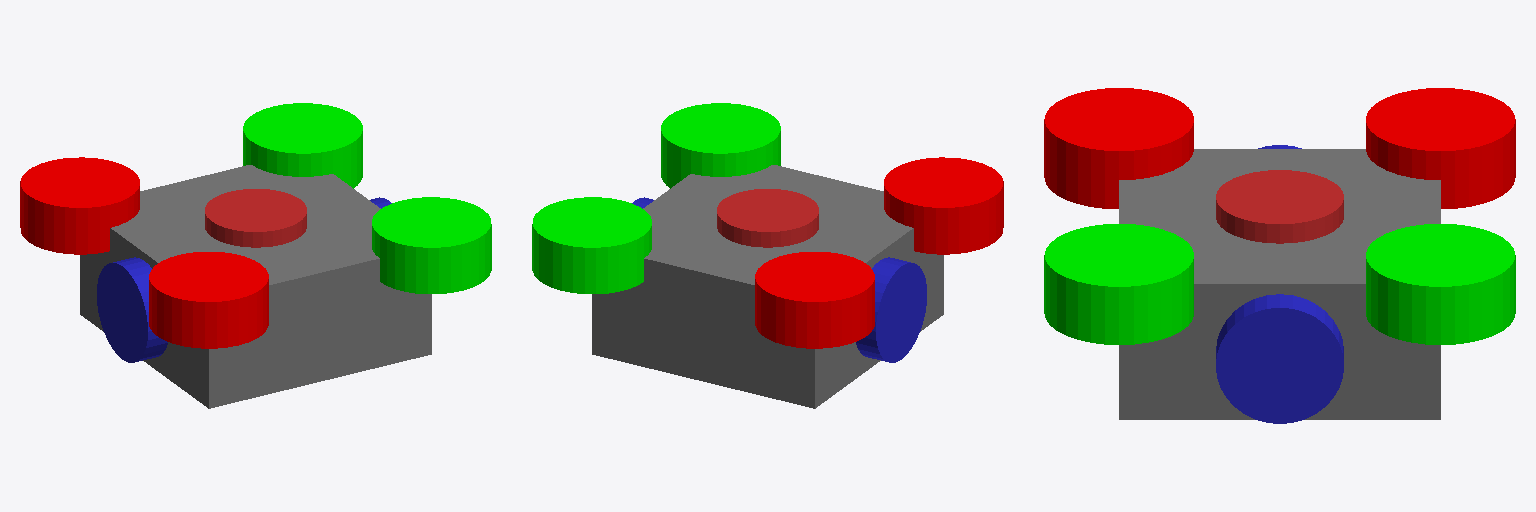
robot.urdf — HobbyDrone:
<?xml version="1.0"?>
<robot name="HobbyDrone">

  <!-- ======================= Materials ======================= -->
  <material name="grey">
    <color rgba="0.5 0.5 0.5 1.0"/>
  </material>
  <material name="blue_cam">
    <color rgba="0.2 0.2 0.8 0.5"/>
  </material>
  <material name="red_cam">
    <color rgba="0.8 0.2 0.2 0.5"/>
  </material>
  <material name="green_cam">
    <color rgba="0.2 0.8 0.2 0.5"/>
  </material>
  <material name="orange_light">
    <color rgba="1.0 0.5 0.0 1.0"/>
  </material>
  <material name="cyan_light">
    <color rgba="0.0 1.0 1.0 1.0"/>
  </material>
  <material name="green_rotor">
    <color rgba="0 1 0 1.0"/>
  </material>
  <material name="red_rotor">
    <color rgba="1 0 0 1.0"/>
  </material>

  <!-- ======================= Base Link ======================= -->
  <link name="CHASSIS">
    <visual>
      <geometry>
        <box size="0.15 0.15 0.07"/>
      </geometry>
      <material name="grey"/>
    </visual>
    <inertial>
      <origin xyz="0 0 0" rpy="0 0 0"/>
      <mass value="1.0"/>
      <inertia ixx="0.00228333" ixy="0" ixz="0" iyy="0.00228333" iyz="0" izz="0.00375"/>
    </inertial>
  </link>

  <!-- ======================= Cameras ======================= -->

  <!-- Front Camera -->
  <link name="FrontCamera">
    <visual>
      <origin xyz="0 0 0" rpy="0 0 0"/>
      <geometry>
        <cylinder radius="0.03" length="0.02"/>
      </geometry>
      <material name="blue_cam"/>
    </visual>
  </link>
  <joint name="FrontCamera_joint" type="fixed">
    <parent link="CHASSIS"/>
    <child link="FrontCamera"/>
    <origin xyz="0.08 0 0" rpy="-1.5708 0 -1.5708"/>
  </joint>

  <!-- Back Camera -->
  <link name="BackCamera">
    <visual>
      <origin xyz="0 0 0" rpy="0 0 0"/>
      <geometry>
        <cylinder radius="0.03" length="0.02"/>
      </geometry>
      <material name="blue_cam"/>
    </visual>
  </link>
  <joint name="BackCamera_joint" type="fixed">
    <parent link="CHASSIS"/>
    <child link="BackCamera"/>
    <origin xyz="-0.08 0 0" rpy="-1.5708 0 1.5708"/>
  </joint>

  <!-- Top Camera -->
  <link name="TopCamera">
    <visual>
      <origin xyz="0 0 0" rpy="0 0 0"/>
      <geometry>
        <cylinder radius="0.03" length="0.02"/>
      </geometry>
      <material name="red_cam"/>
    </visual>
  </link>
  <joint name="TopCamera_joint" type="fixed">
    <parent link="CHASSIS"/>
    <child link="TopCamera"/>
    <origin xyz="0 0 0.035" rpy="0 0 0"/>
  </joint>

  <!-- Bottom Camera -->
  <link name="BottomCamera">
    <visual>
      <origin xyz="0 0 0" rpy="0 0 0"/>
      <geometry>
        <cylinder radius="0.03" length="0.02"/>
      </geometry>
      <material name="green_cam"/>
    </visual>
  </link>
  <joint name="BottomCamera_joint" type="fixed">
    <parent link="CHASSIS"/>
    <child link="BottomCamera"/>
    <origin xyz="0 0 -0.035" rpy="3.1416 0 0"/>
  </joint>

  <!-- ======================= Lights ======================= -->

  <!-- Front Light -->
  <link name="FrontLight">
    <visual>
      <origin xyz="0 0 0" rpy="0 -1.5708 0"/>
      <geometry>
        <cylinder radius="0.022" length="0.035"/>
      </geometry>
      <material name="orange_light"/>
    </visual>
  </link>
  <joint name="FrontLight_joint" type="fixed">
    <parent link="CHASSIS"/>
    <child link="FrontLight"/>
    <origin xyz="0.06 0 0" rpy="0 0 0"/>
  </joint>

  <!-- Back Light -->
  <link name="BackLight">
    <visual>
      <origin xyz="0 0 0" rpy="0 -1.5708 0"/>
      <geometry>
        <cylinder radius="0.022" length="0.035"/>
      </geometry>
      <material name="orange_light"/>
    </visual>
  </link>
  <joint name="BackLight_joint" type="fixed">
    <parent link="CHASSIS"/>
    <child link="BackLight"/>
    <origin xyz="-0.06 0 0" rpy="0 0 0"/>
  </joint>

  <!-- Top Light -->
  <link name="TopLight">
    <visual>
      <origin xyz="0 0 0" rpy="0 0 0"/>
      <geometry>
        <cylinder radius="0.02" length="0.028"/>
      </geometry>
      <material name="cyan_light"/>
    </visual>
  </link>
  <joint name="TopLight_joint" type="fixed">
    <parent link="CHASSIS"/>
    <child link="TopLight"/>
    <origin xyz="0 0 0.03" rpy="0 0 0"/>
  </joint>

  <!-- Bottom Light -->
  <link name="BottomLight">
    <visual>
      <origin xyz="0 0 0" rpy="0 0 0"/>
      <geometry>
        <cylinder radius="0.02" length="0.028"/>
      </geometry>
      <material name="cyan_light"/>
    </visual>
  </link>
  <joint name="BottomLight_joint" type="fixed">
    <parent link="CHASSIS"/>
    <child link="BottomLight"/>
    <origin xyz="0 0 -0.03" rpy="0 0 0"/>
  </joint>

  <!-- ======================= Rotors ======================= -->

  <!-- Right-Front Rotor -->
  <link name="ROTOR_RF">
    <visual>
      <origin xyz="0 0 0" rpy="0 0 0"/>
      <geometry>
        <cylinder radius="0.035" length="0.03"/>
      </geometry>
      <material name="green_rotor"/>
    </visual>
  </link>
  <joint name="ROTOR_RF_joint" type="fixed">
    <parent link="CHASSIS"/>
    <child link="ROTOR_RF"/>
    <origin xyz="0.075 -0.075 0.035" rpy="0 0 0"/>
  </joint>

  <!-- Left-Front Rotor -->
  <link name="ROTOR_LF">
    <visual>
      <origin xyz="0 0 0" rpy="0 0 0"/>
      <geometry>
        <cylinder radius="0.035" length="0.03"/>
      </geometry>
      <material name="green_rotor"/>
    </visual>
  </link>
  <joint name="ROTOR_LF_joint" type="fixed">
    <parent link="CHASSIS"/>
    <child link="ROTOR_LF"/>
    <origin xyz="0.075 0.075 0.035" rpy="0 0 0"/>
  </joint>

  <!-- Left-Rear Rotor -->
  <link name="ROTOR_LR">
    <visual>
      <origin xyz="0 0 0" rpy="0 0 0"/>
      <geometry>
        <cylinder radius="0.035" length="0.03"/>
      </geometry>
      <material name="red_rotor"/>
    </visual>
  </link>
  <joint name="ROTOR_LR_joint" type="fixed">
    <parent link="CHASSIS"/>
    <child link="ROTOR_LR"/>
    <origin xyz="-0.075 0.075 0.035" rpy="0 0 0"/>
  </joint>

  <!-- Right-Rear Rotor -->
  <link name="ROTOR_RR">
    <visual>
      <origin xyz="0 0 0" rpy="0 0 0"/>
      <geometry>
        <cylinder radius="0.035" length="0.03"/>
      </geometry>
      <material name="red_rotor"/>
    </visual>
  </link>
  <joint name="ROTOR_RR_joint" type="fixed">
    <parent link="CHASSIS"/>
    <child link="ROTOR_RR"/>
    <origin xyz="-0.075 -0.075 0.035" rpy="0 0 0"/>
  </joint>

</robot>

--- What the picture shows (computed from the rendered views, not written in the file) ---
Views: 3 orthographic renders of the robot side by side, from view 1: azimuth 30°, elevation 25°; view 2: azimuth 150°, elevation 25°; view 3: azimuth 270°, elevation 25°.
Model HobbyDrone with 13 links and 12 joints (12 fixed), rooted at CHASSIS, posed every joint at zero.
Visible links, largest first — view 1: CHASSIS, ROTOR_RR, ROTOR_RF, ROTOR_LR, ROTOR_LF, TopCamera, BackCamera; view 2: CHASSIS, ROTOR_LR, ROTOR_LF, ROTOR_RR, ROTOR_RF, TopCamera, BackCamera; view 3: CHASSIS, ROTOR_RF, ROTOR_LF, ROTOR_LR, ROTOR_RR, FrontCamera, TopCamera.
Link boxes in pixels (x1=…): CHASSIS: x1=80, y1=165, x2=431, y2=408; ROTOR_RR: x1=149, y1=252, x2=268, y2=348; ROTOR_RF: x1=372, y1=197, x2=491, y2=293; ROTOR_LR: x1=20, y1=157, x2=139, y2=254; ROTOR_LF: x1=243, y1=103, x2=362, y2=188; TopCamera: x1=205, y1=189, x2=306, y2=247; BackCamera: x1=97, y1=257, x2=167, y2=362; CHASSIS: x1=592, y1=165, x2=943, y2=408; ROTOR_LR: x1=755, y1=252, x2=874, y2=348; ROTOR_LF: x1=532, y1=197, x2=651, y2=293; ROTOR_RR: x1=884, y1=157, x2=1003, y2=254; ROTOR_RF: x1=661, y1=103, x2=780, y2=188; TopCamera: x1=717, y1=189, x2=818, y2=247; BackCamera: x1=856, y1=257, x2=926, y2=362; CHASSIS: x1=1119, y1=149, x2=1440, y2=419; ROTOR_RF: x1=1044, y1=224, x2=1193, y2=344; ROTOR_LF: x1=1366, y1=224, x2=1515, y2=344; ROTOR_LR: x1=1366, y1=88, x2=1515, y2=208; ROTOR_RR: x1=1044, y1=88, x2=1193, y2=208; FrontCamera: x1=1216, y1=294, x2=1343, y2=423; TopCamera: x1=1216, y1=170, x2=1343, y2=243.
Bounding box of the posed robot: 0.22 × 0.22 × 0.095 m (x, y, z).
Geometry: primitives only (box / cylinder / sphere), no mesh files.
